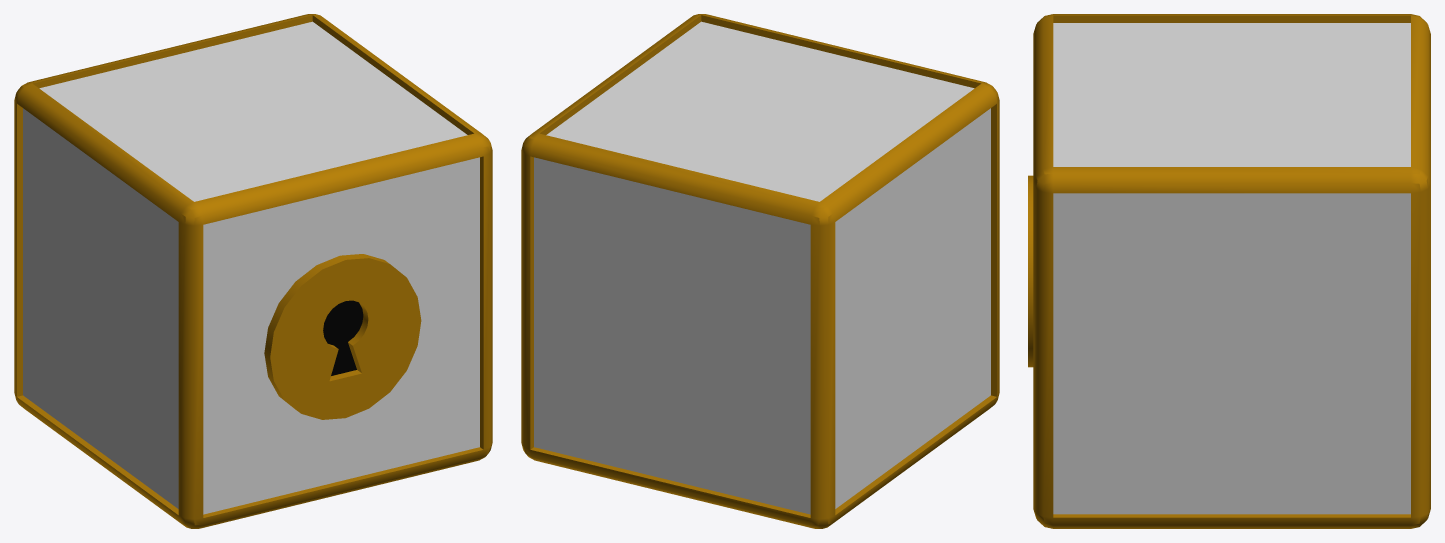
The model's file is friend1.fbx.
3 views of the same model, side by side, from view 1: azimuth 30°, elevation 25°; view 2: azimuth 150°, elevation 25°; view 3: azimuth 270°, elevation 25° (orthographic). The views are drawn at different scales.
Visible parts, largest first — view 1: pCube3, pCylinder1; view 2: pCube3; view 3: pCube3, pCylinder1.
Boxes of the visible parts, bbox=[...] form: pCube3: bbox=[14, 14, 492, 528]; pCylinder1: bbox=[264, 254, 421, 419]; pCube3: bbox=[521, 14, 999, 528]; pCube3: bbox=[1033, 14, 1430, 528]; pCylinder1: bbox=[1028, 175, 1033, 367].
Size of the model in its own units: 1 by 1 by 1.01.
